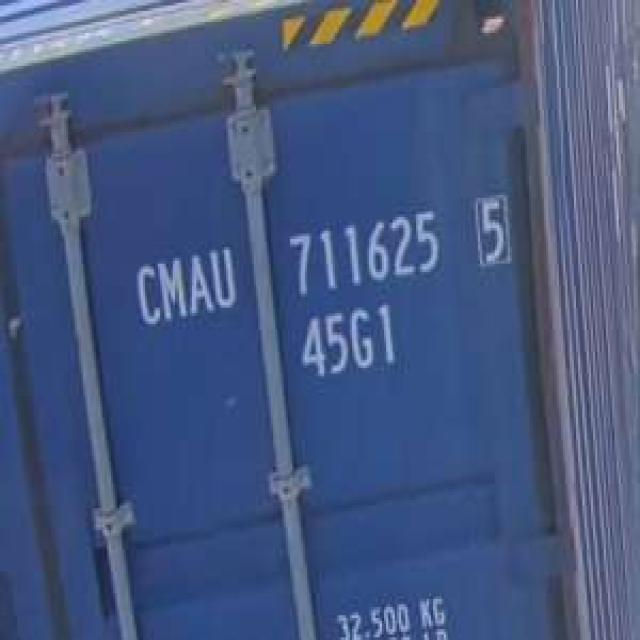dv: (470, 184, 515, 274)
owner: (124, 232, 240, 336)
serial: (280, 197, 441, 298)
size: (289, 302, 406, 388)
